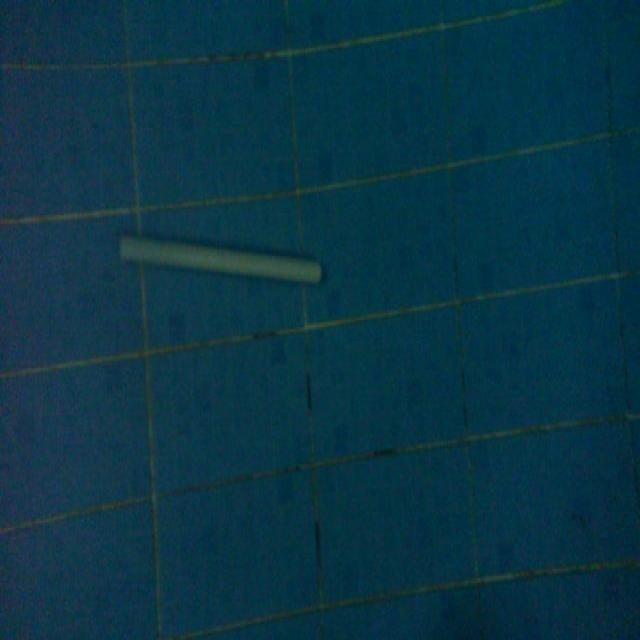Cube: (117, 226, 324, 290)
